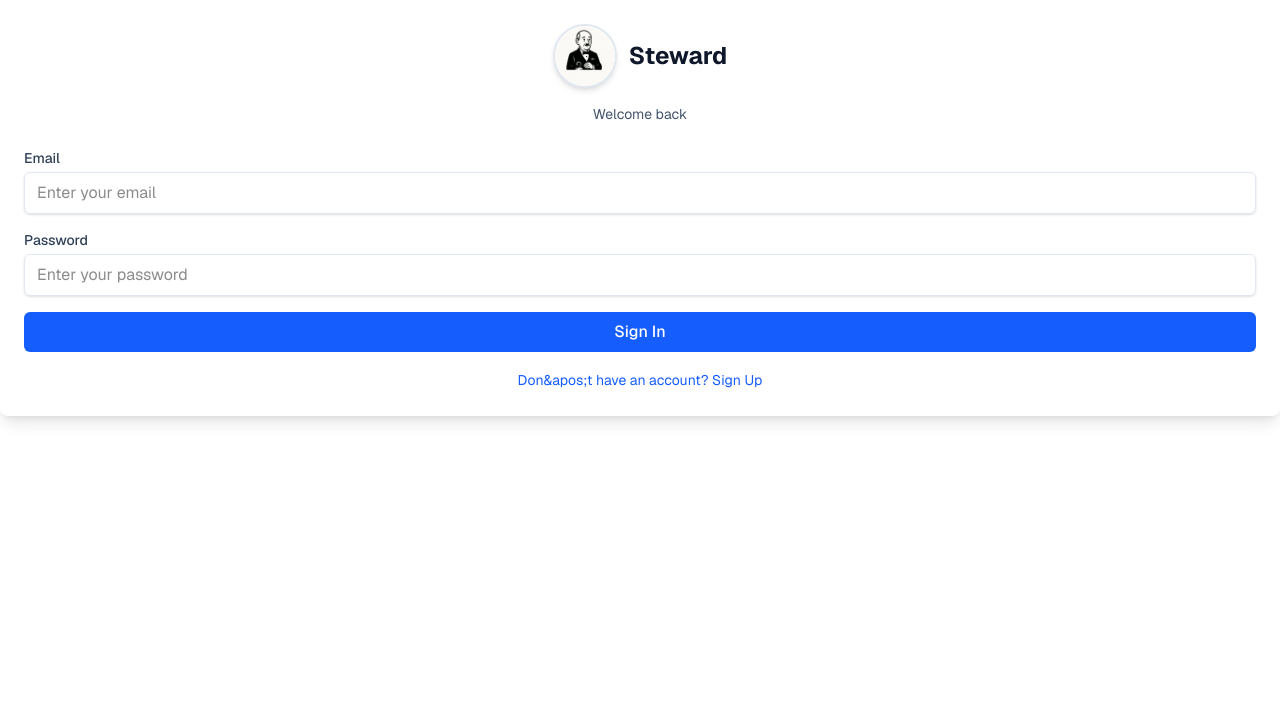
Test: LoginForm › Sign In Flow › should handle email not confirmed error
The image size is (1280, 720).
Step 1. Type "test@example.com" into the field labelled "Email" → (640, 193), box left=24, top=172, right=1256, bottom=214
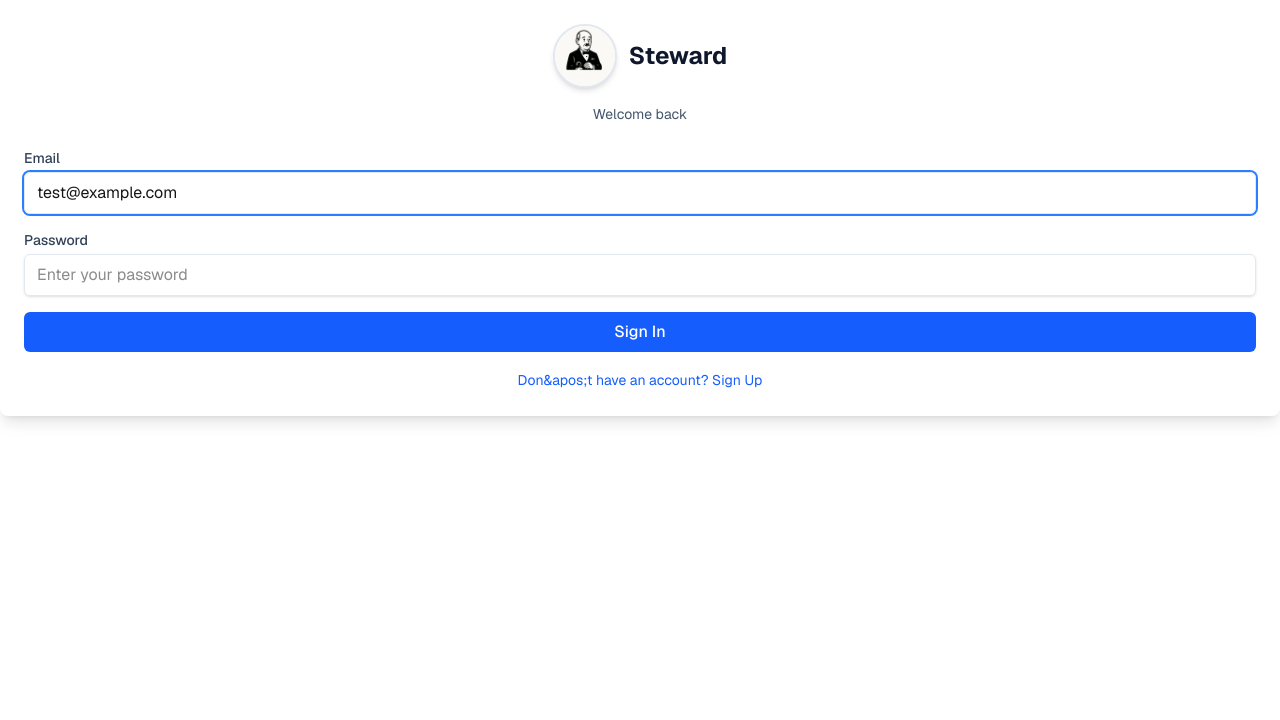
Step 2. Type "password123" into the password field labelled "Password" → (640, 275), box left=24, top=254, right=1256, bottom=296
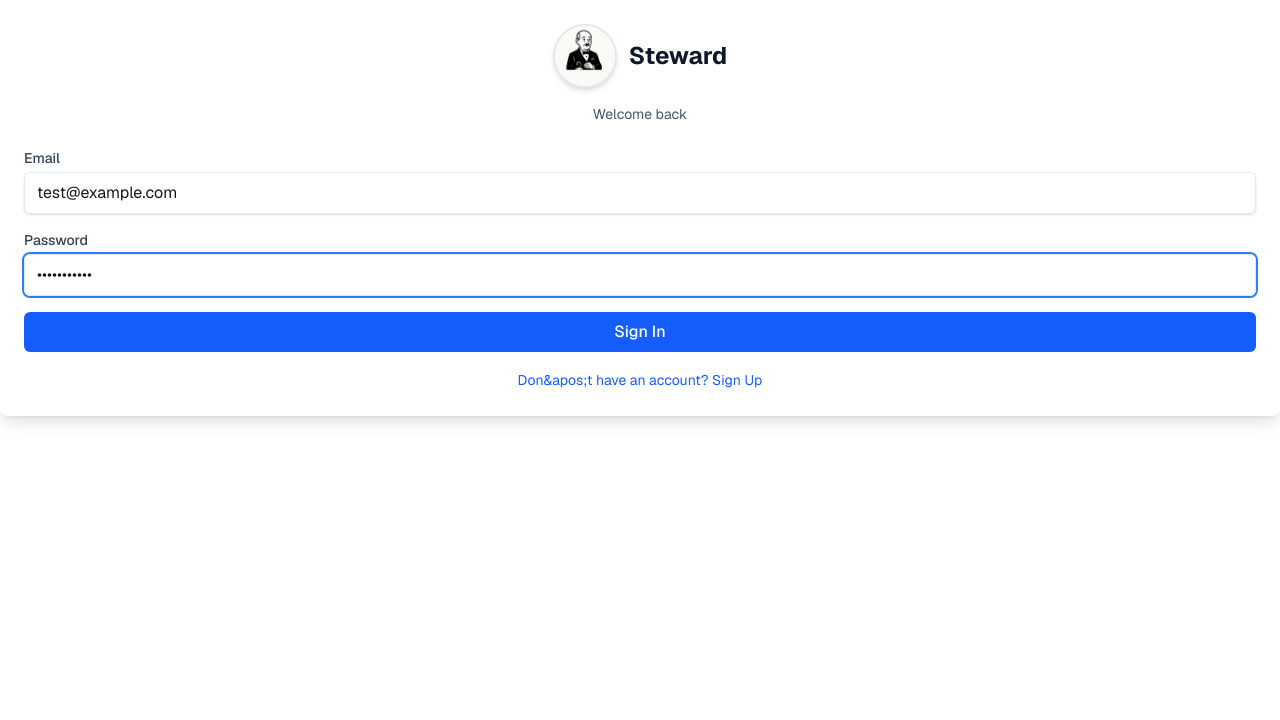
Step 3. Click the button "Sign In" → (640, 332), box left=24, top=312, right=1256, bottom=352
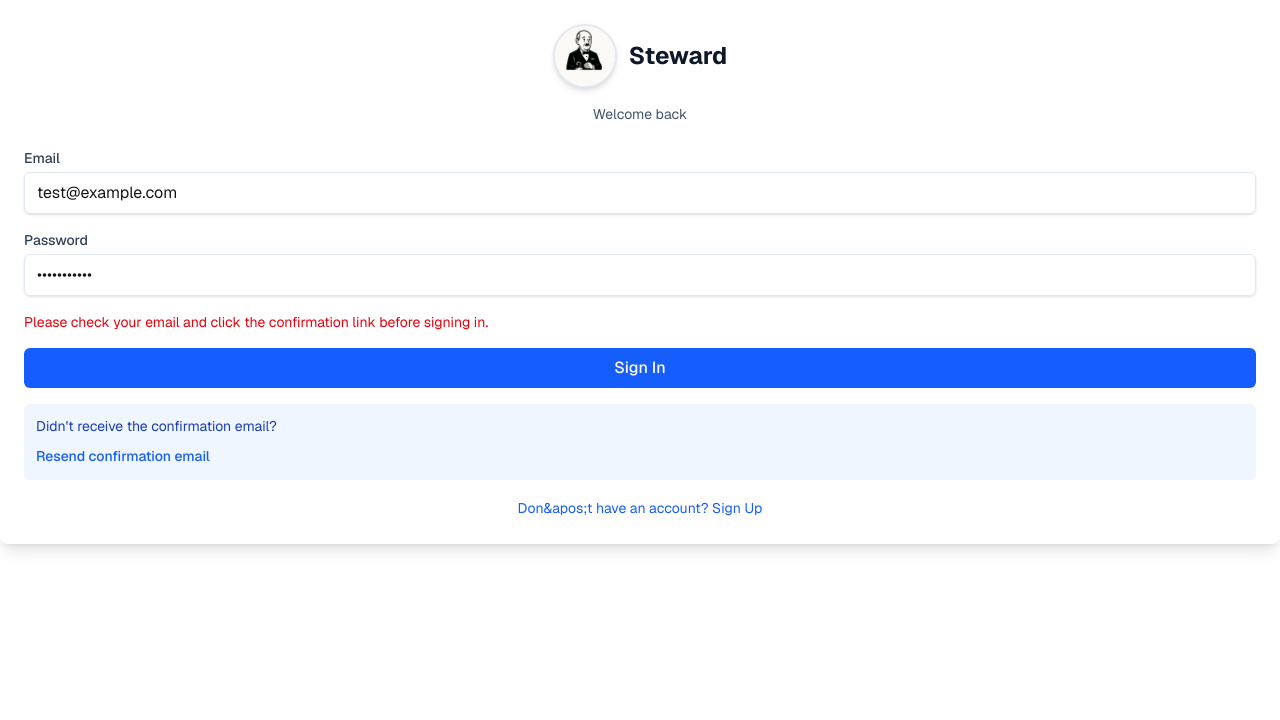
Now the text "Please check your email and click the confirmation link before signing in." is shown, box left=24, top=313, right=488, bottom=331
